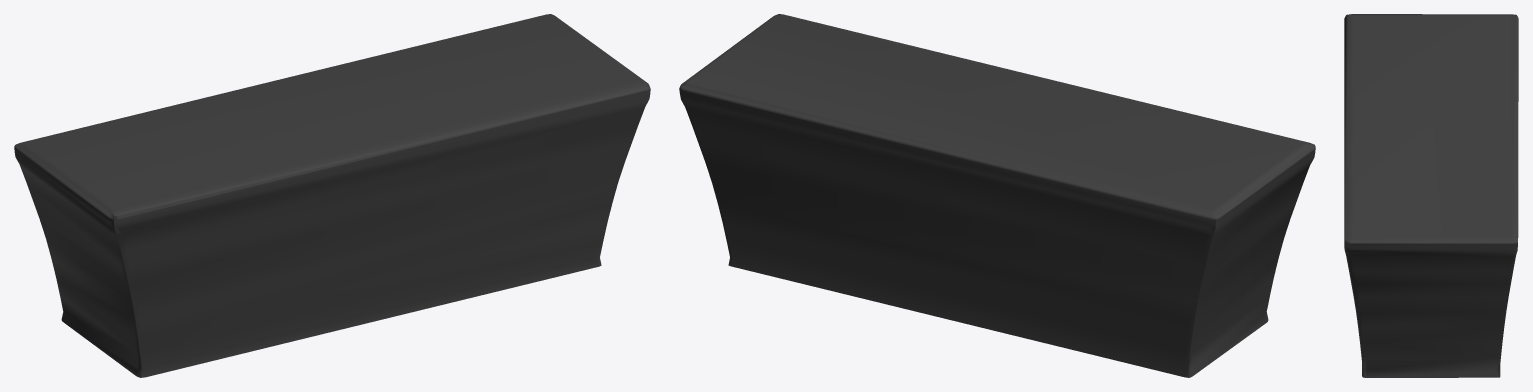
The model's file is multi-8ft-4.glb.
3 renders of one model, left to right at view 1: azimuth 30°, elevation 25°; view 2: azimuth 150°, elevation 25°; view 3: azimuth 270°, elevation 25°, orthographic. The views are drawn at different scales.
Visible parts, largest first — view 1: geometry_0; view 2: geometry_0; view 3: geometry_0.
Part boxes in pixels (bbox=[...]): geometry_0: bbox=[14, 14, 650, 377]; geometry_0: bbox=[679, 14, 1315, 377]; geometry_0: bbox=[1344, 14, 1518, 377].
Size of the model in its own units: 2.46 by 0.7812 by 0.7954.
1 material, 1 textured.
